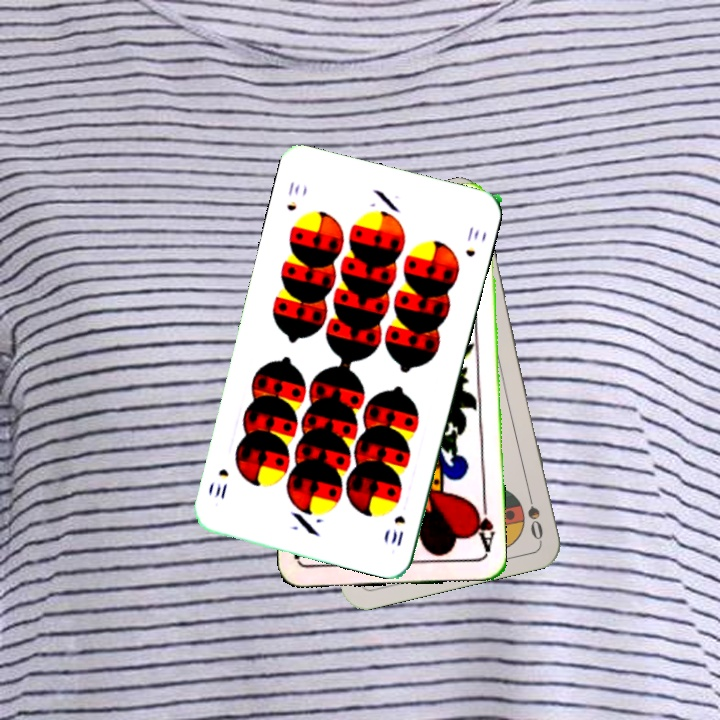HA: (469, 497, 497, 556)
S10: (387, 511, 408, 549), (283, 177, 303, 214)
SO: (522, 484, 546, 543)
